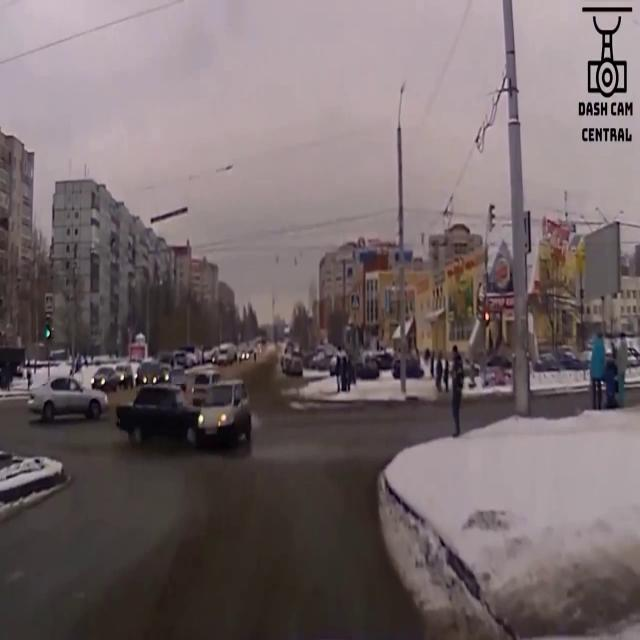accident: (116, 374, 254, 446)
